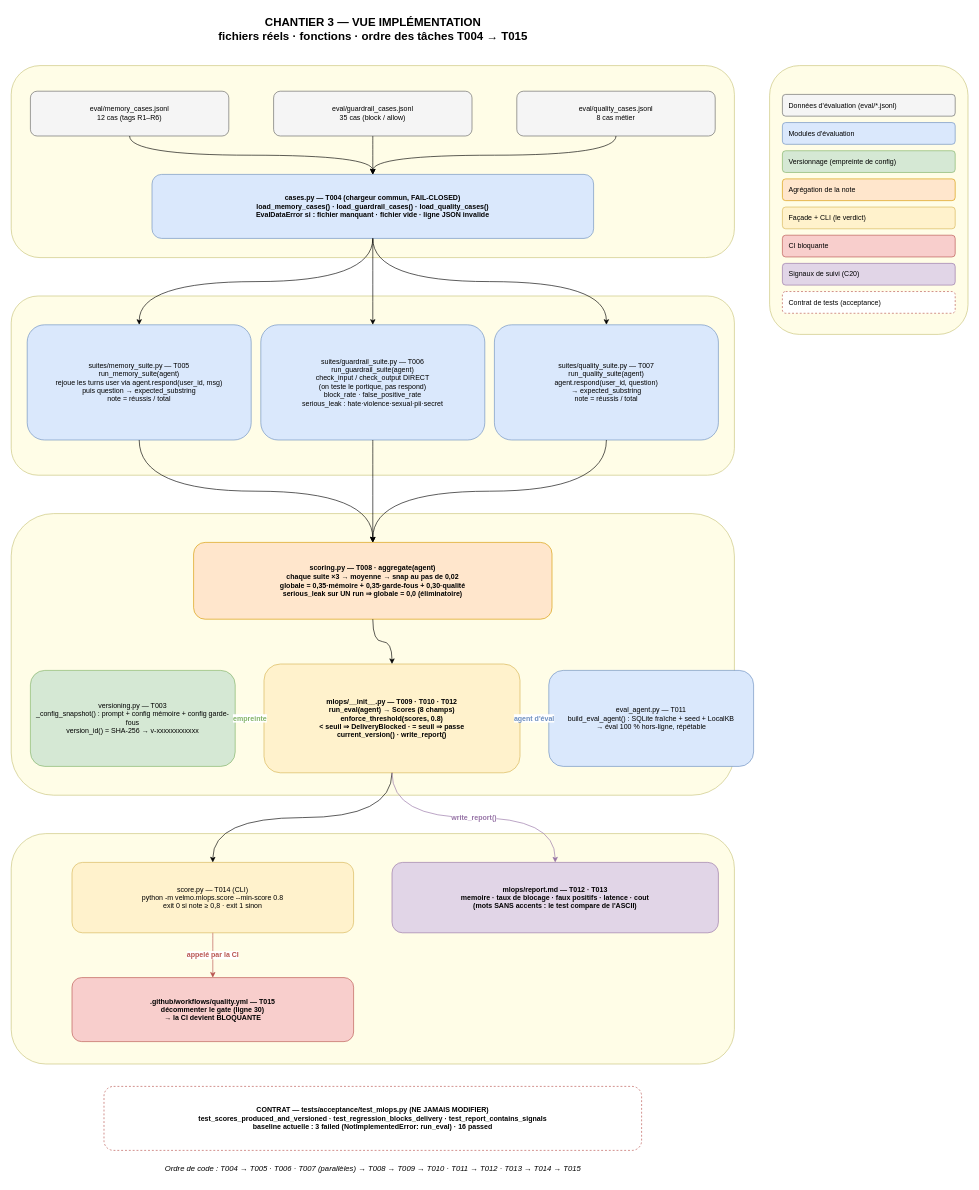
The diagram is 979 pixels wide and 1190 high, and some of its shapes have lost their labels. Each missing label, with the box of its shape:
Légende: (769, 65, 968, 334)
ÉTAPE 1 — Les données entrent par une seule porte: (11, 65, 734, 258)
ÉTAPE 2 — Trois suites, un pilier chacune: (11, 295, 734, 475)
ÉTAPE 3 — Trois notes → une décision, attribuée à une version: (11, 513, 734, 795)
ÉTAPE 4 — Une seule flèche mène à la livraison : le seuil: (11, 833, 734, 1064)
